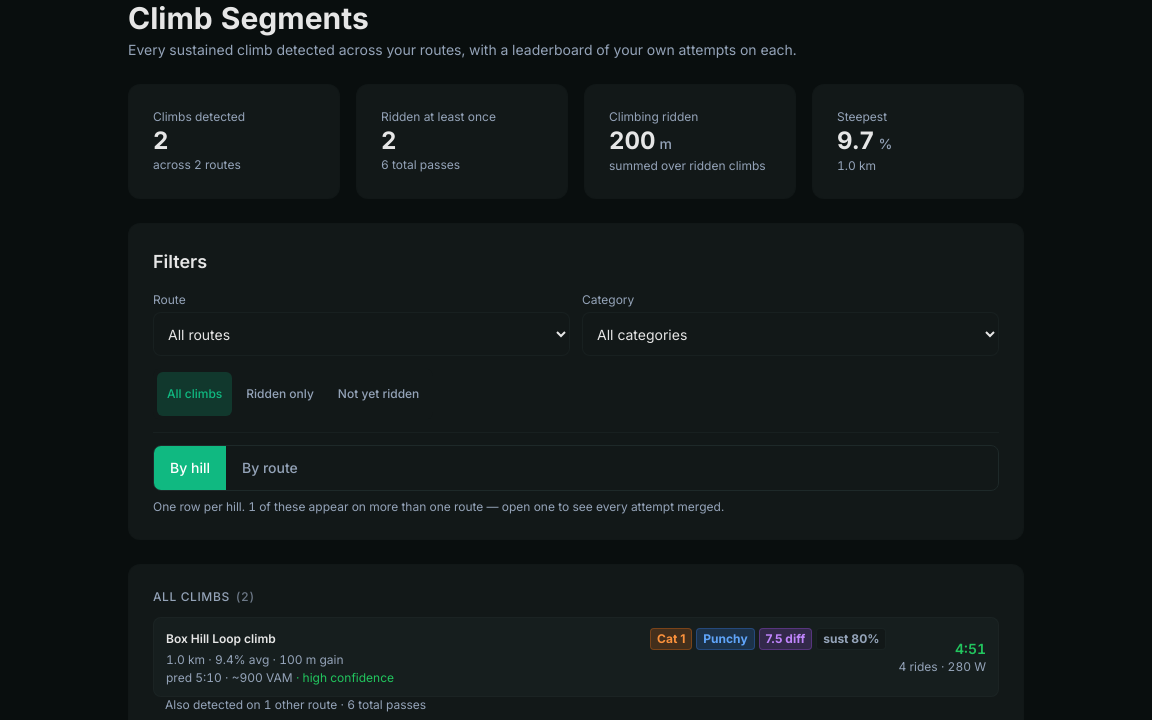
segments page - hill grouping › opens a merged leaderboard for the whole hill
Click the text "Box Hill Loop climb" at (221, 638), box [166,631,276,646]
(page scrolled)
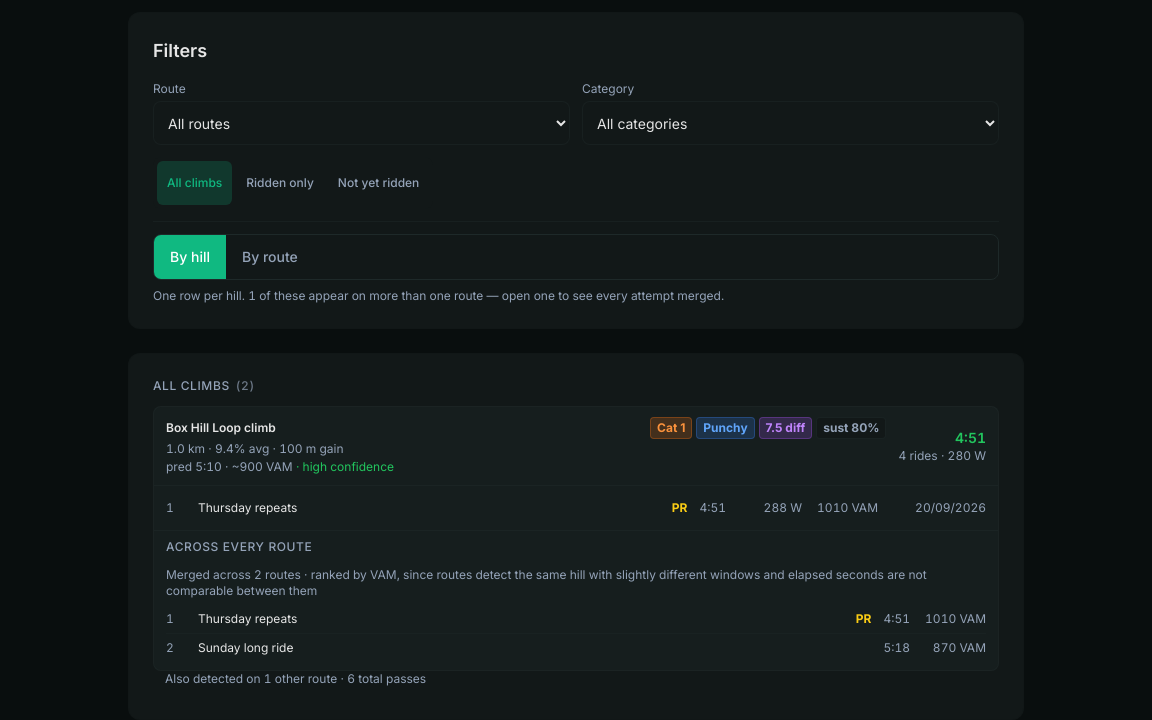
expect the text "Thursday repeats" below "Merged across" is shown: met, box [198,611,297,626]
expect the text "Sunday long ride" is shown: met, box [198,640,293,655]
